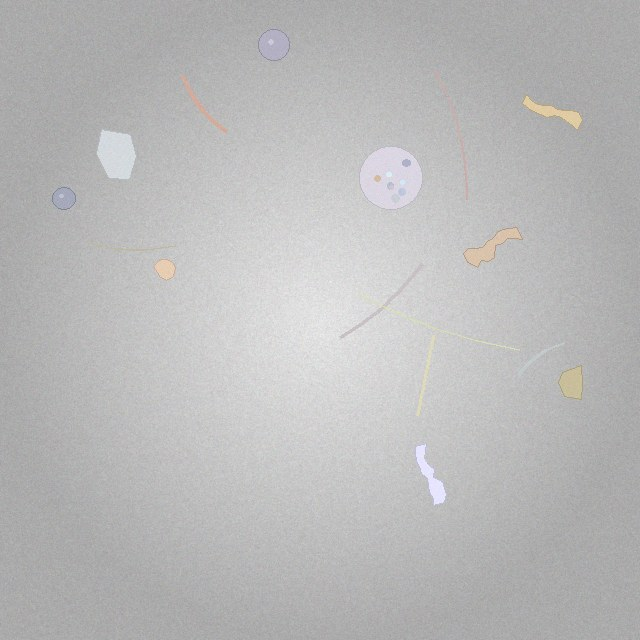fiber: (356, 292, 522, 352), (338, 261, 425, 341), (433, 69, 468, 201), (178, 70, 231, 135), (414, 332, 437, 419), (515, 341, 567, 379), (83, 239, 178, 252)
film: (464, 227, 522, 267), (523, 94, 583, 131), (416, 444, 446, 506)
foam: (360, 146, 423, 209)
fragment: (96, 129, 137, 179), (559, 365, 582, 400), (153, 259, 175, 281)
pellet: (259, 30, 290, 61), (52, 187, 75, 210)
